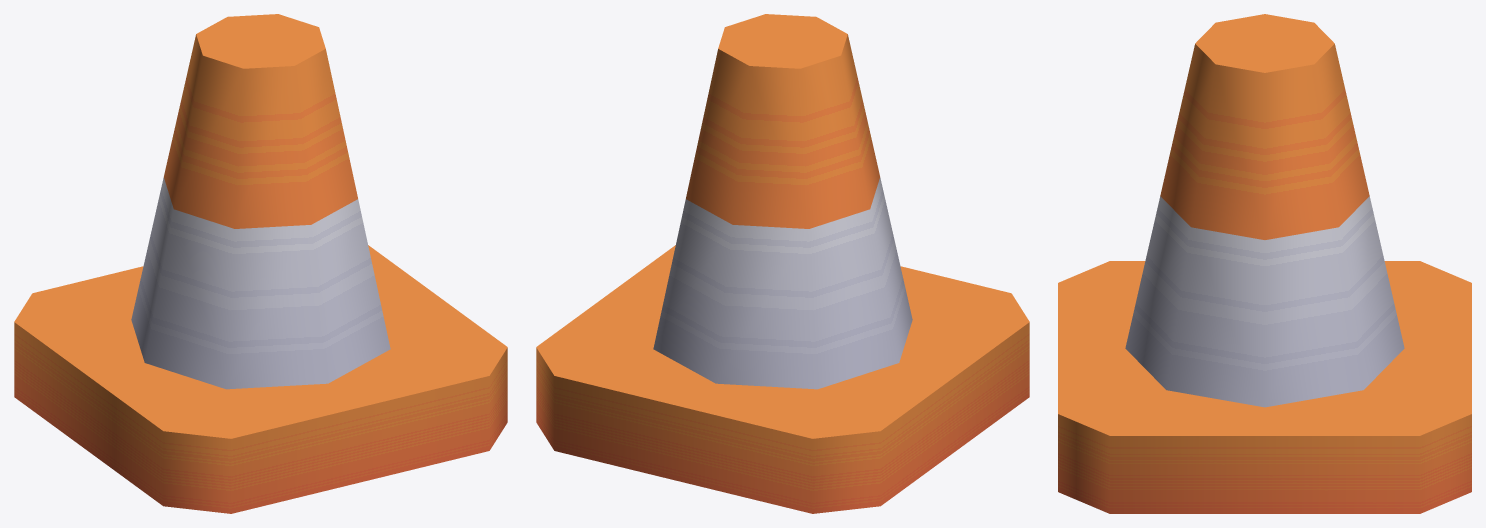
The model's file is item-cone.glb.
The picture shows the model from 3 angles, left to right: view 1: azimuth 30°, elevation 25°; view 2: azimuth 150°, elevation 25°; view 3: azimuth 270°, elevation 25°; orthographic projection. The views are drawn at different scales.
Visible parts, largest first — view 1: item-cone; view 2: item-cone; view 3: item-cone.
Part boxes in pixels (x1=…): item-cone: x1=14, y1=14, x2=507, y2=513; item-cone: x1=536, y1=14, x2=1029, y2=513; item-cone: x1=1058, y1=14, x2=1471, y2=513.
Size of the model in its own units: 0.24 by 0.2452 by 0.24.
Materials: 1 (1 with a texture image).
